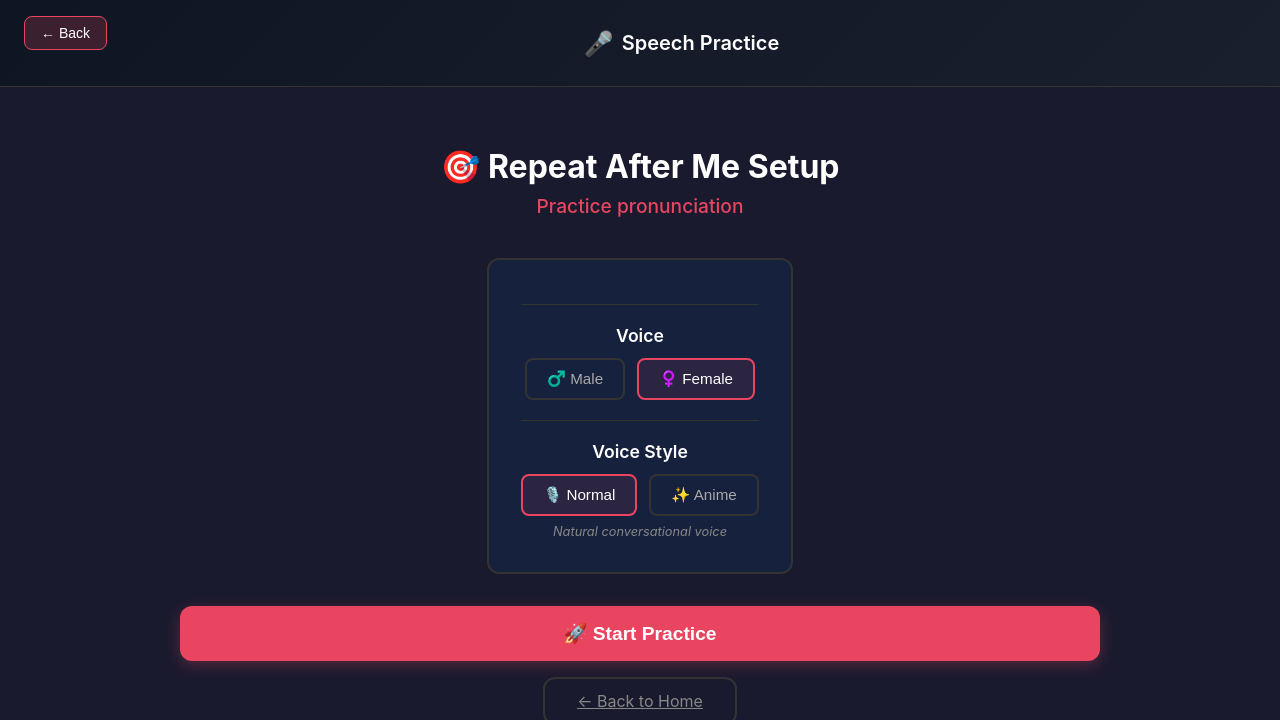
Test: RepeatSetup › start practice › should show loading state when starting practice
Click the button "🚀 Start Practice". click: (640, 634)
box: [180,606,1100,661]
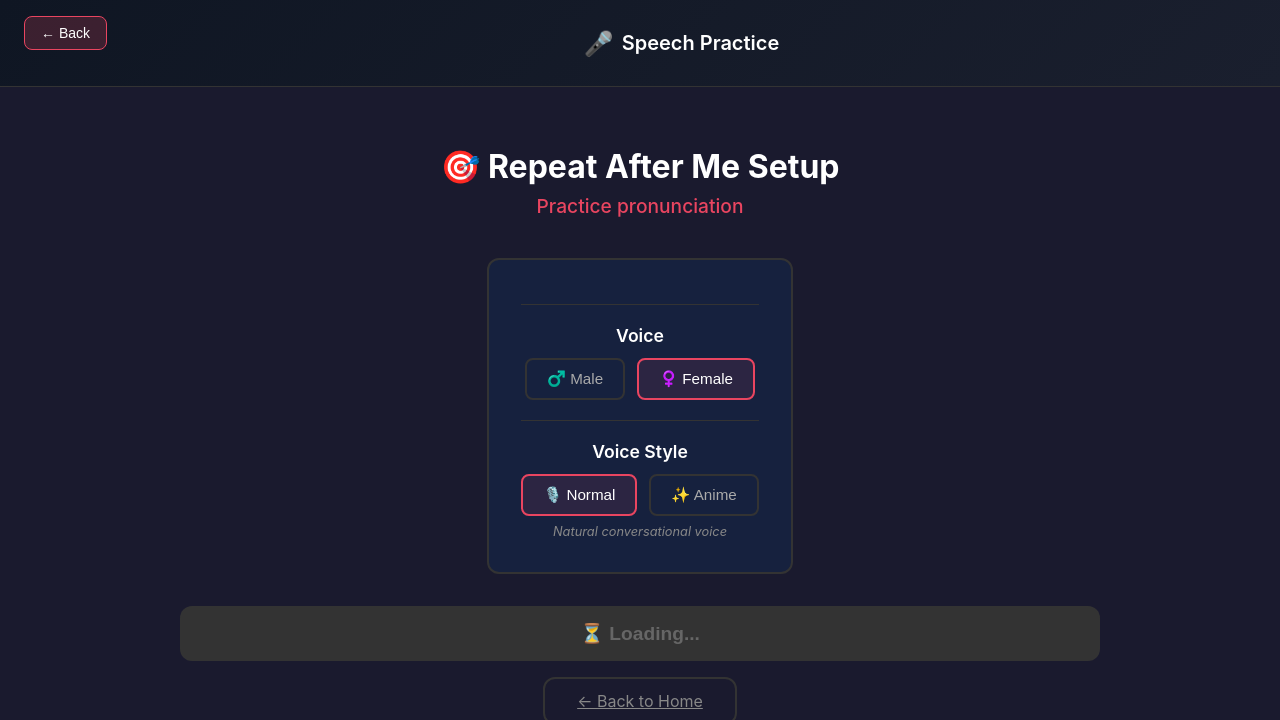
Check: the button "⏳ Loading..." is shown, box [180,606,1100,661]
